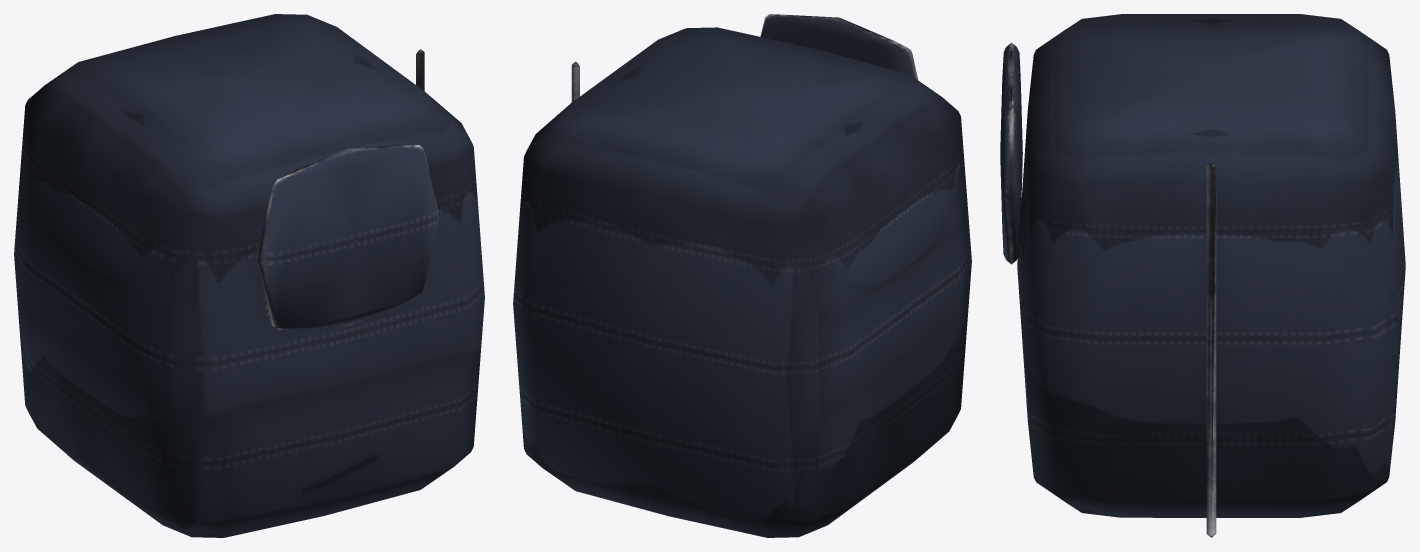
Rendered from MatonImp_PantalonAbajoIzq.fbx.
3 views of the same model, side by side, from view 1: azimuth 30°, elevation 25°; view 2: azimuth 150°, elevation 25°; view 3: azimuth 270°, elevation 25° (orthographic). The views are drawn at different scales.
Parts seen in each view (by area): view 1: MatonImp_PantalonAbajoIzq; view 2: MatonImp_PantalonAbajoIzq; view 3: MatonImp_PantalonAbajoIzq.
Boxes of the visible parts, x1=… form: MatonImp_PantalonAbajoIzq: x1=14, y1=14, x2=484, y2=537; MatonImp_PantalonAbajoIzq: x1=513, y1=14, x2=971, y2=537; MatonImp_PantalonAbajoIzq: x1=1000, y1=14, x2=1405, y2=537.
Size of the model in its own units: 1.26 by 1.39 by 1.28.
